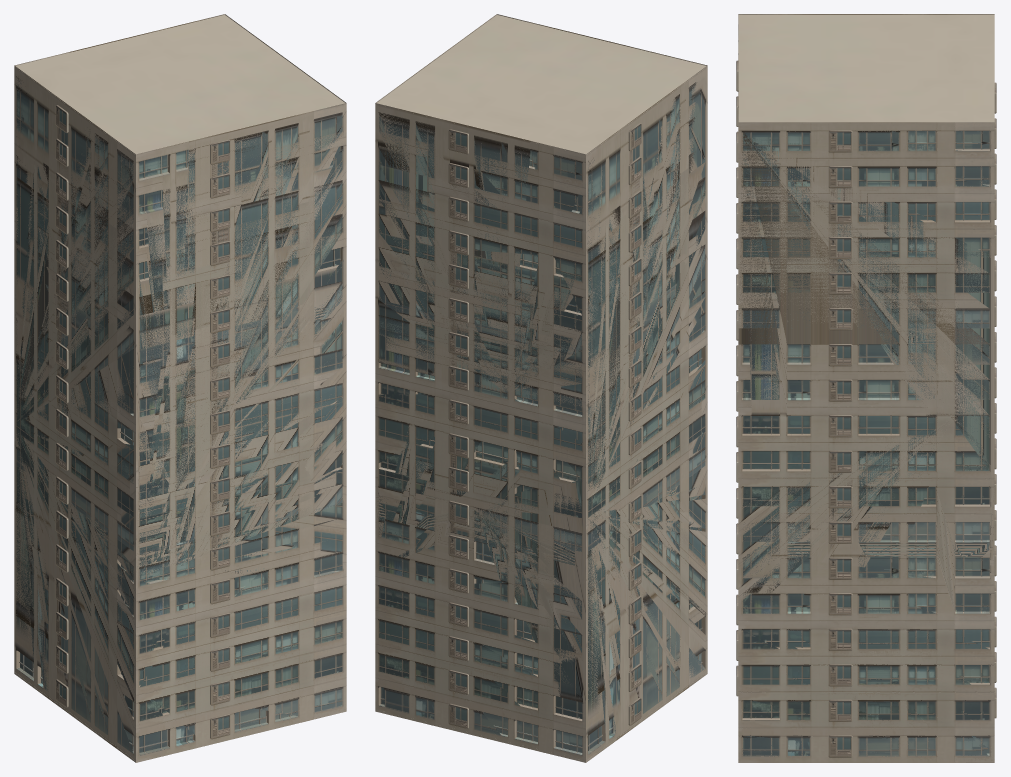
Rendered from building 6.fbx.
3 renders of one model, left to right at view 1: azimuth 30°, elevation 25°; view 2: azimuth 150°, elevation 25°; view 3: azimuth 270°, elevation 25°, orthographic. The views are drawn at different scales.
Parts seen in each view (by area): view 1: Plane.001; view 2: Plane.001; view 3: Plane.001.
Part boxes in pixels (x1=…): Plane.001: x1=14, y1=14, x2=346, y2=762; Plane.001: x1=375, y1=14, x2=707, y2=762; Plane.001: x1=736, y1=14, x2=996, y2=762.
Bounding box in the file's own units: 110 × 300 × 110.
